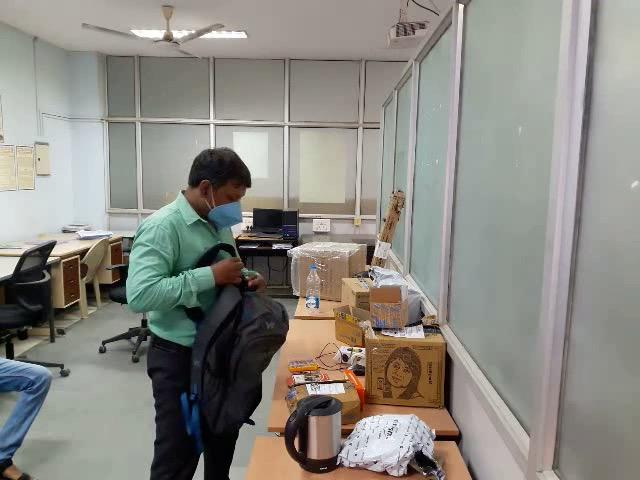shoplifting: (120, 245, 336, 439)
